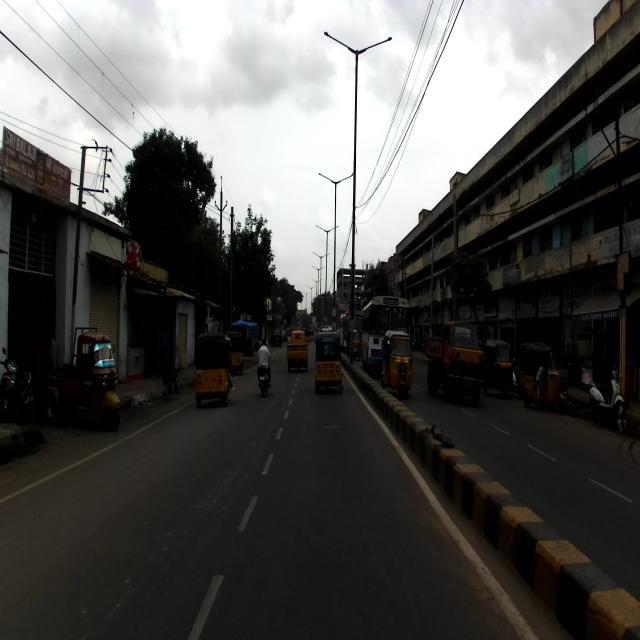autorickshaw: (44, 324, 120, 434), (381, 330, 413, 395)
bus: (361, 296, 409, 377)
motorcycle: (257, 352, 271, 399)
scooter: (0, 346, 33, 423)
